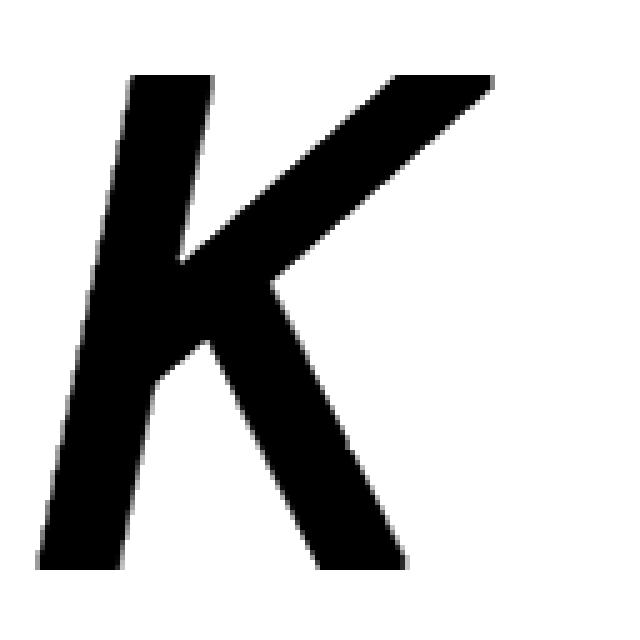K: (30, 60, 495, 575)
